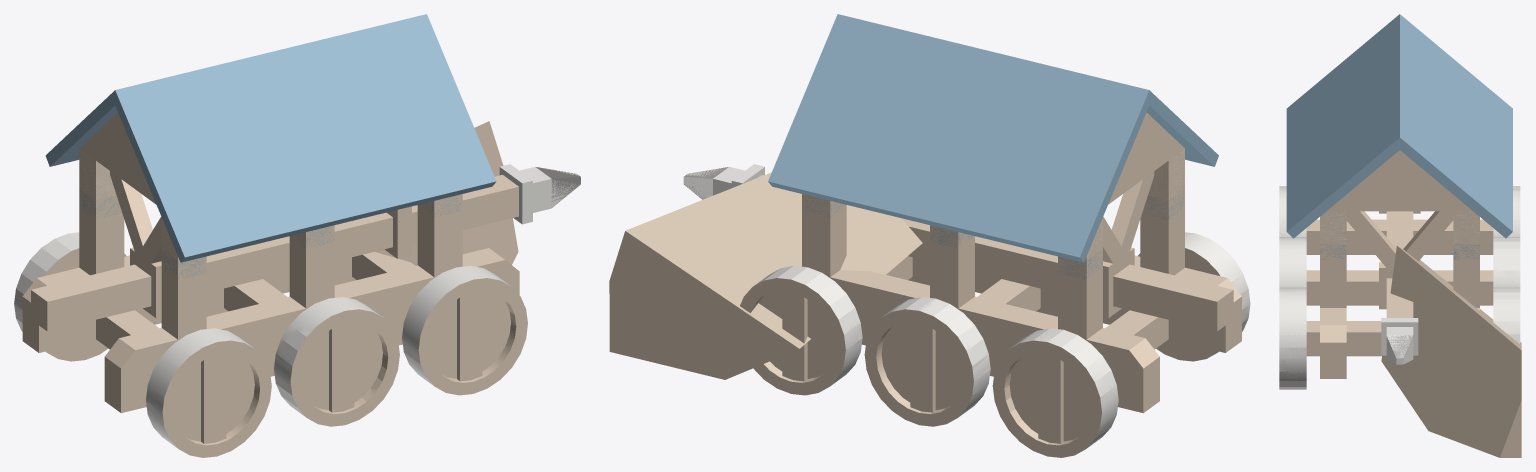
The model's file is siegeRam.fbx.
The picture shows the model from 3 angles, left to right: view 1: azimuth 30°, elevation 25°; view 2: azimuth 150°, elevation 25°; view 3: azimuth 270°, elevation 25°; orthographic projection. The views are drawn at different scales.
Parts seen in each view (by area): view 1: siegeRam, siegeRam_cell.003, siegeRam_cell.007, siegeRam_cell.027, siegeRam_cell.026, siegeRam_cell.017, siegeRam_cell.018, siegeRam_cell.012, siegeRam_cell.004, siegeRam_cell.014, siegeRam_cell.006, siegeRam_cell.005 (+1 smaller); view 2: siegeRam, siegeRam_cell.004, siegeRam_cell.003, siegeRam_cell.014, siegeRam_cell, siegeRam_cell.002, siegeRam_cell.021, siegeRam_cell.024, siegeRam_cell.017, siegeRam_cell.009, siegeRam_cell.007, siegeRam_cell.015 (+4 smaller); view 3: siegeRam, siegeRam_cell.004, siegeRam_cell.007, siegeRam_cell.003, siegeRam_cell, siegeRam_cell.012, siegeRam_cell.026, siegeRam_cell.009, siegeRam_cell.015, siegeRam_cell.006, siegeRam_cell.011, siegeRam_cell.013 (+2 smaller).
Boxes of the visible parts, bbox=[...] form: siegeRam: bbox=[14, 17, 580, 457]; siegeRam_cell.003: bbox=[39, 77, 326, 413]; siegeRam_cell.007: bbox=[270, 89, 519, 376]; siegeRam_cell.027: bbox=[275, 308, 399, 426]; siegeRam_cell.026: bbox=[402, 283, 527, 395]; siegeRam_cell.017: bbox=[31, 243, 289, 331]; siegeRam_cell.018: bbox=[146, 338, 270, 457]; siegeRam_cell.012: bbox=[462, 164, 579, 229]; siegeRam_cell.004: bbox=[375, 121, 518, 265]; siegeRam_cell.014: bbox=[14, 234, 108, 361]; siegeRam_cell.006: bbox=[22, 279, 273, 352]; siegeRam_cell.005: bbox=[263, 252, 415, 293]; siegeRam: bbox=[683, 14, 1250, 457]; siegeRam_cell.004: bbox=[609, 172, 922, 379]; siegeRam_cell.003: bbox=[905, 36, 1241, 367]; siegeRam_cell.014: bbox=[993, 328, 1116, 455]; siegeRam_cell: bbox=[768, 26, 905, 285]; siegeRam_cell.002: bbox=[919, 225, 1155, 402]; siegeRam_cell.021: bbox=[740, 266, 862, 383]; siegeRam_cell.024: bbox=[902, 337, 990, 425]; siegeRam_cell.017: bbox=[975, 243, 1228, 325]; siegeRam_cell.009: bbox=[751, 266, 857, 343]; siegeRam_cell.007: bbox=[852, 18, 1033, 309]; siegeRam_cell.015: bbox=[890, 297, 988, 370]; siegeRam: bbox=[1279, 14, 1520, 381]; siegeRam_cell.004: bbox=[1381, 246, 1521, 457]; siegeRam_cell.007: bbox=[1286, 102, 1419, 378]; siegeRam_cell.003: bbox=[1286, 14, 1462, 254]; siegeRam_cell: bbox=[1402, 122, 1507, 310]; siegeRam_cell.012: bbox=[1381, 293, 1418, 364]; siegeRam_cell.026: bbox=[1279, 287, 1306, 389]; siegeRam_cell.009: bbox=[1493, 288, 1520, 336]; siegeRam_cell.015: bbox=[1493, 237, 1520, 261]; siegeRam_cell.006: bbox=[1427, 233, 1493, 304]; siegeRam_cell.011: bbox=[1380, 132, 1419, 164]; siegeRam_cell.013: bbox=[1481, 103, 1509, 169].
Bounding box in the file's own units: 1992 × 1127 × 952.
